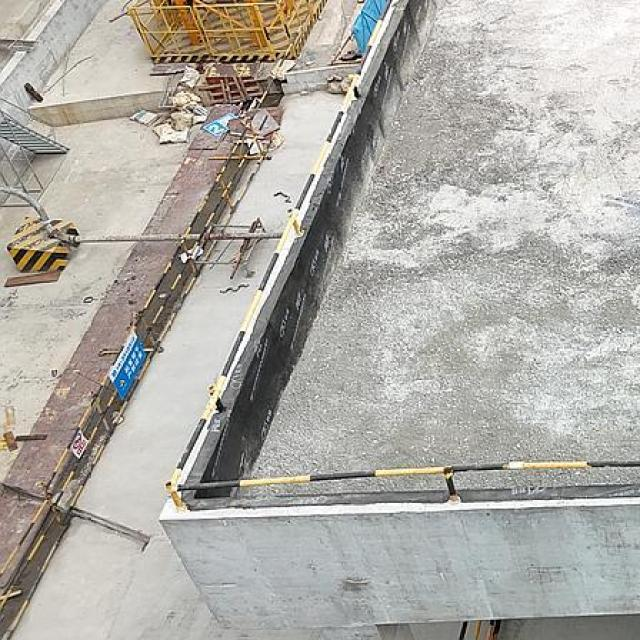edge_guardrail: (163, 0, 640, 510), (457, 620, 483, 640)
